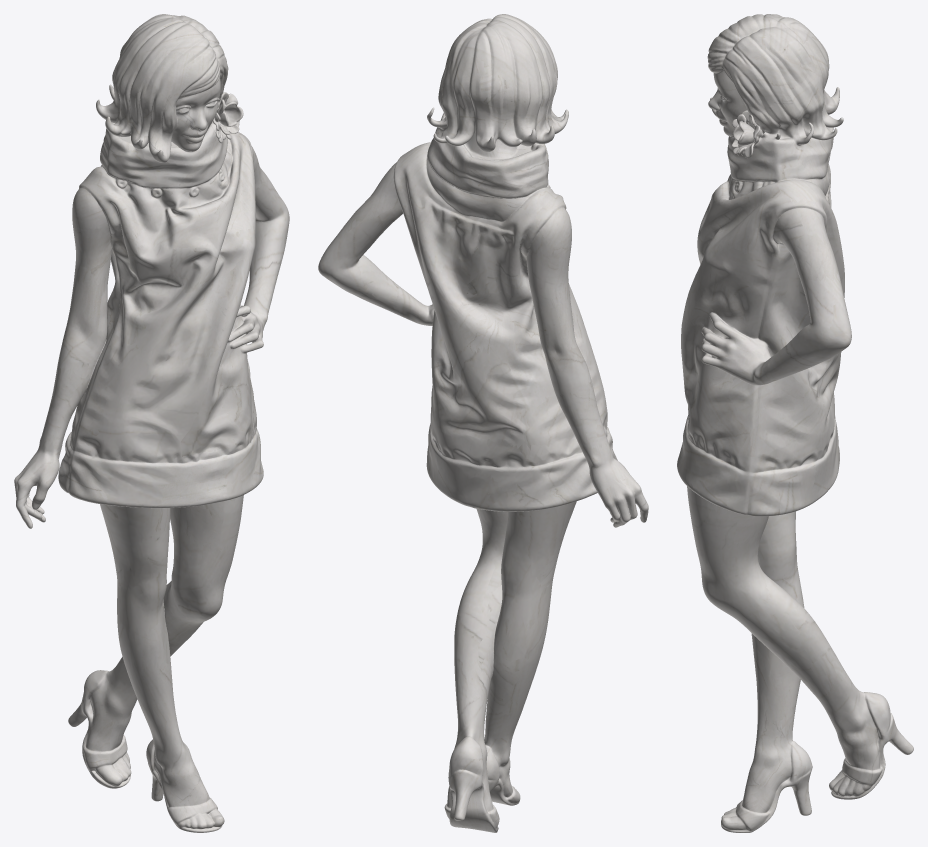
File: modelo_tanamachi.glb
3 views of the same model, side by side, from view 1: azimuth 30°, elevation 25°; view 2: azimuth 150°, elevation 25°; view 3: azimuth 270°, elevation 25° (orthographic).
Parts seen in each view (by area): view 1: Mesh; view 2: Mesh; view 3: Mesh.
Boxes of the visible parts, x1,y1,x2,y2 form: Mesh: (14,14,289,832); Mesh: (318,14,648,832); Mesh: (677,14,913,832).
Bounding box in the file's own units: 0.7432 × 1.9 × 0.5104.
Materials: 1 (1 with a texture image).
